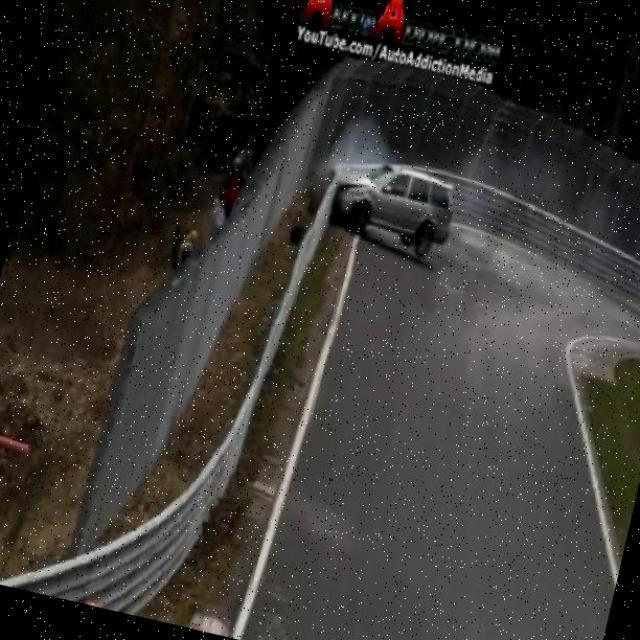accident: (312, 144, 468, 268)
